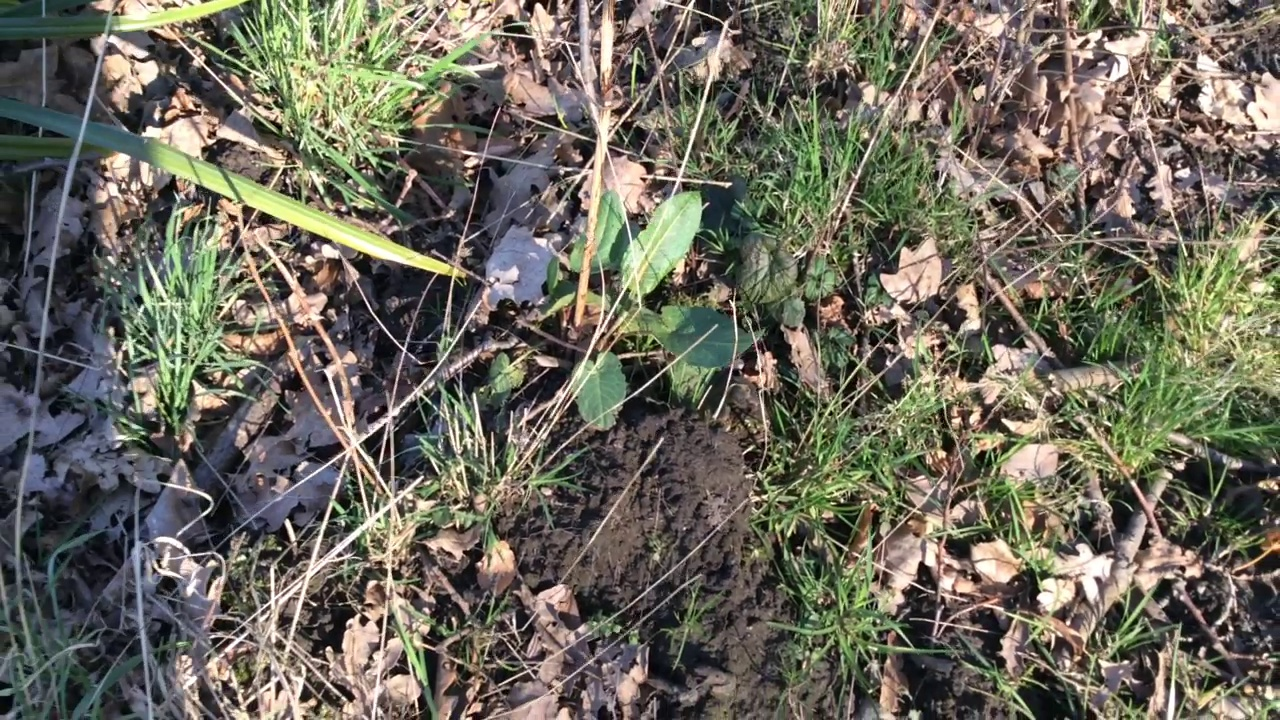rumex: (487, 191, 761, 430)
